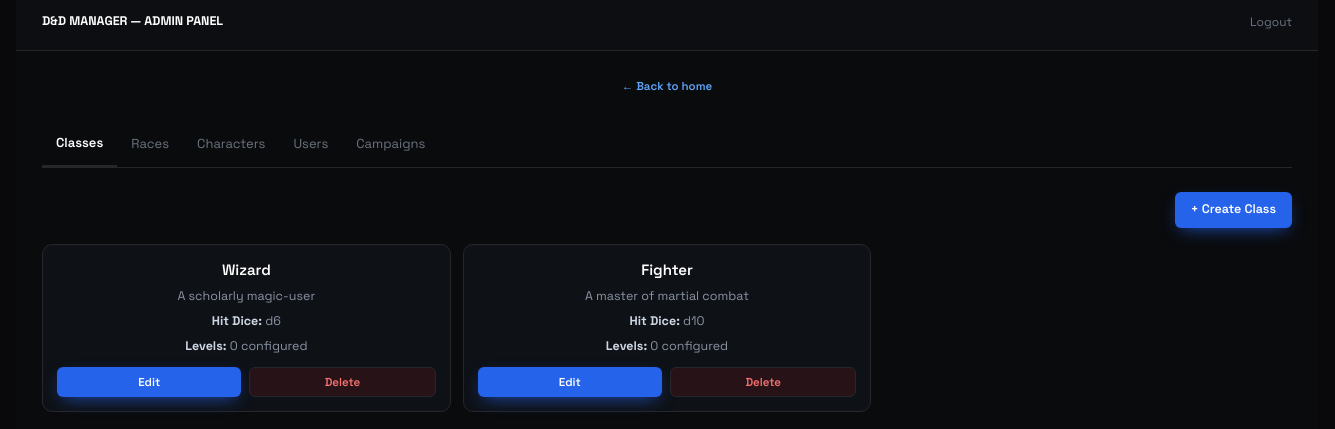
Scenario: AdminPanel — Tabs › clicking Characters tab loads and shows characters
Click the tab "Characters". click: (231, 144)
box: [183,122,279,166]
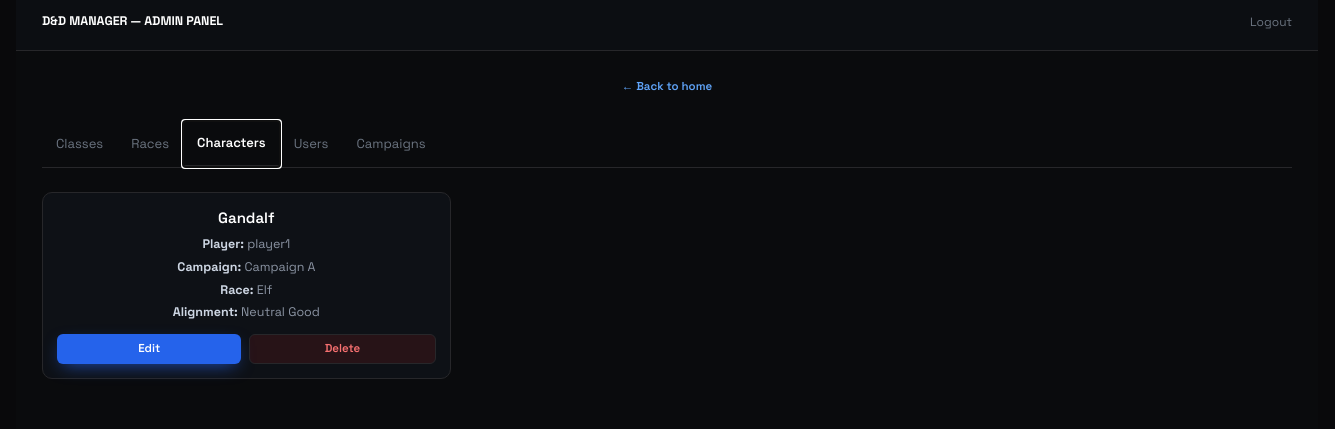
Expected: the heading "Gandalf" is shown, [218,208,275,226]
